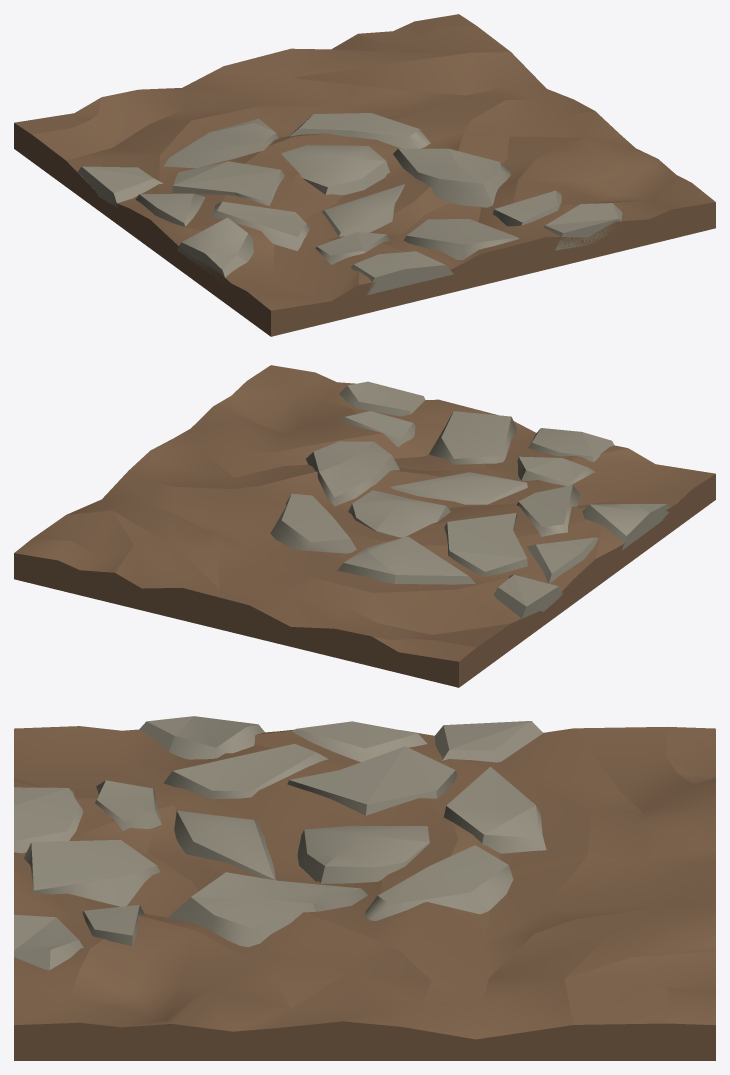
The model's file is Ground_Stone_Path_Turn_RU.glb.
3 renders of one model, top to bottom at view 1: azimuth 30°, elevation 25°; view 2: azimuth 150°, elevation 25°; view 3: azimuth 270°, elevation 25°, orthographic. The views are drawn at different scales.
Parts seen in each view (by area): view 1: Ground_Stone_Path_Turn_RU; view 2: Ground_Stone_Path_Turn_RU; view 3: Ground_Stone_Path_Turn_RU.
Boxes of the visible parts, bbox=[...] form: Ground_Stone_Path_Turn_RU: bbox=[14, 14, 715, 336]; Ground_Stone_Path_Turn_RU: bbox=[14, 365, 715, 687]; Ground_Stone_Path_Turn_RU: bbox=[14, 716, 715, 1060].
Bounding box in the file's own units: 1.47 × 0.1486 × 1.47.
